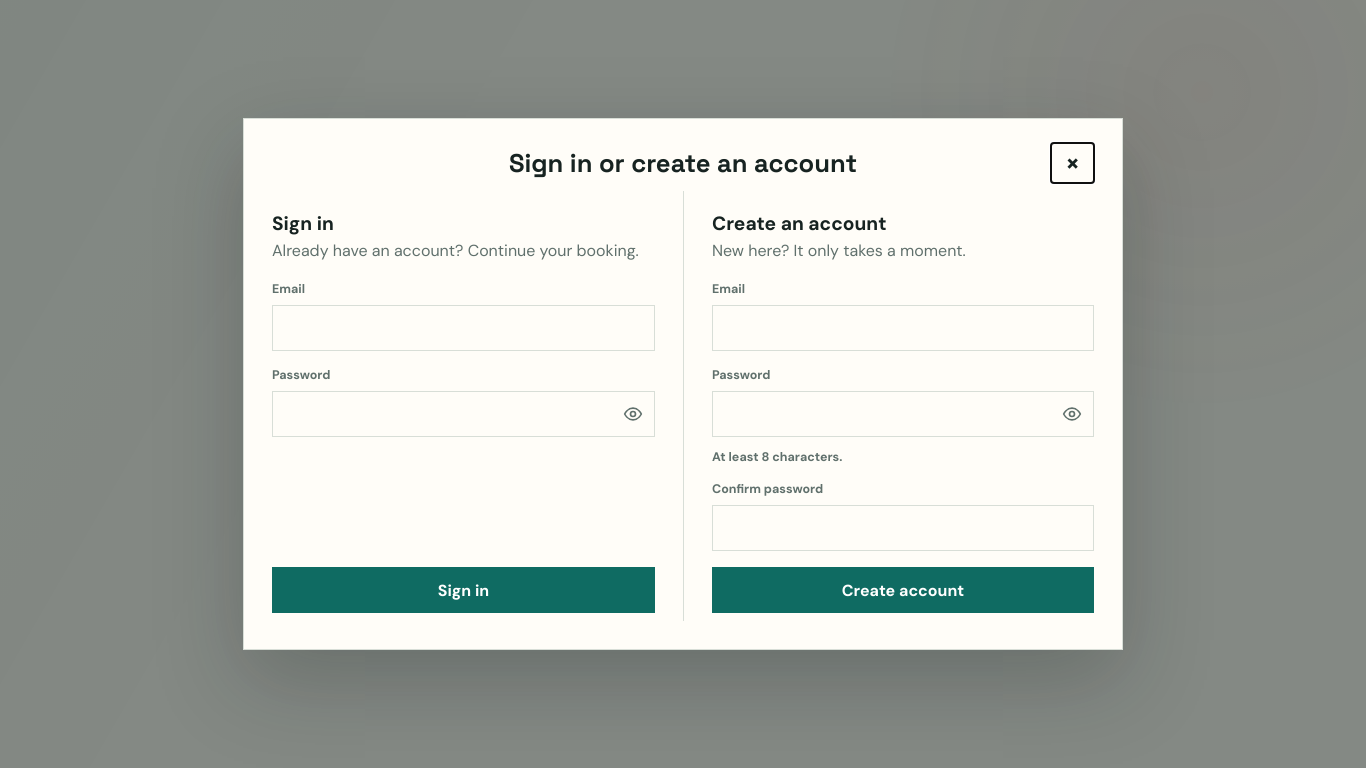
Scenario: AuthModal › closes with the × button and resets typed values
Type "typed@example.com" into the 1st field labelled "Email" at [464, 328], box x1=272 y1=305 x2=655 y2=351
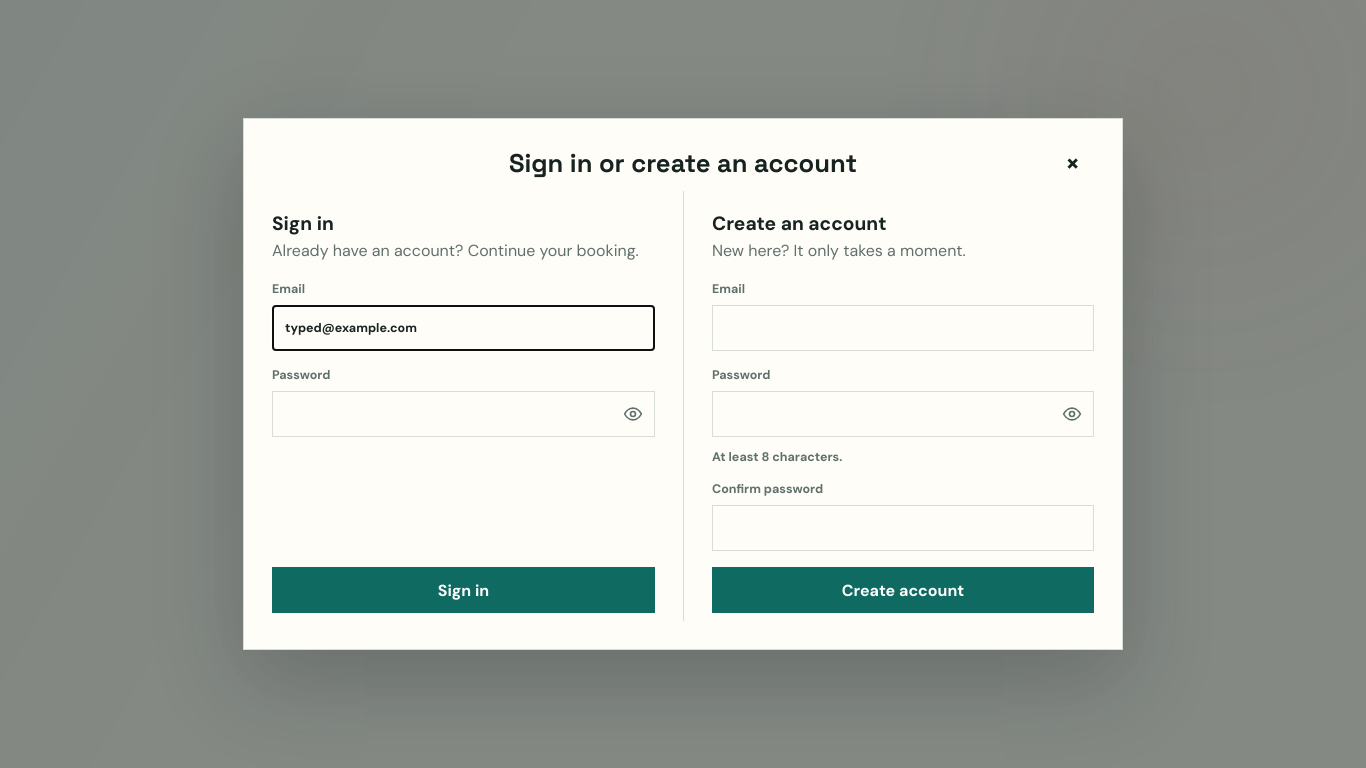
Click the button named "Close" at [1073, 163], box x1=1051 y1=143 x2=1094 y2=183
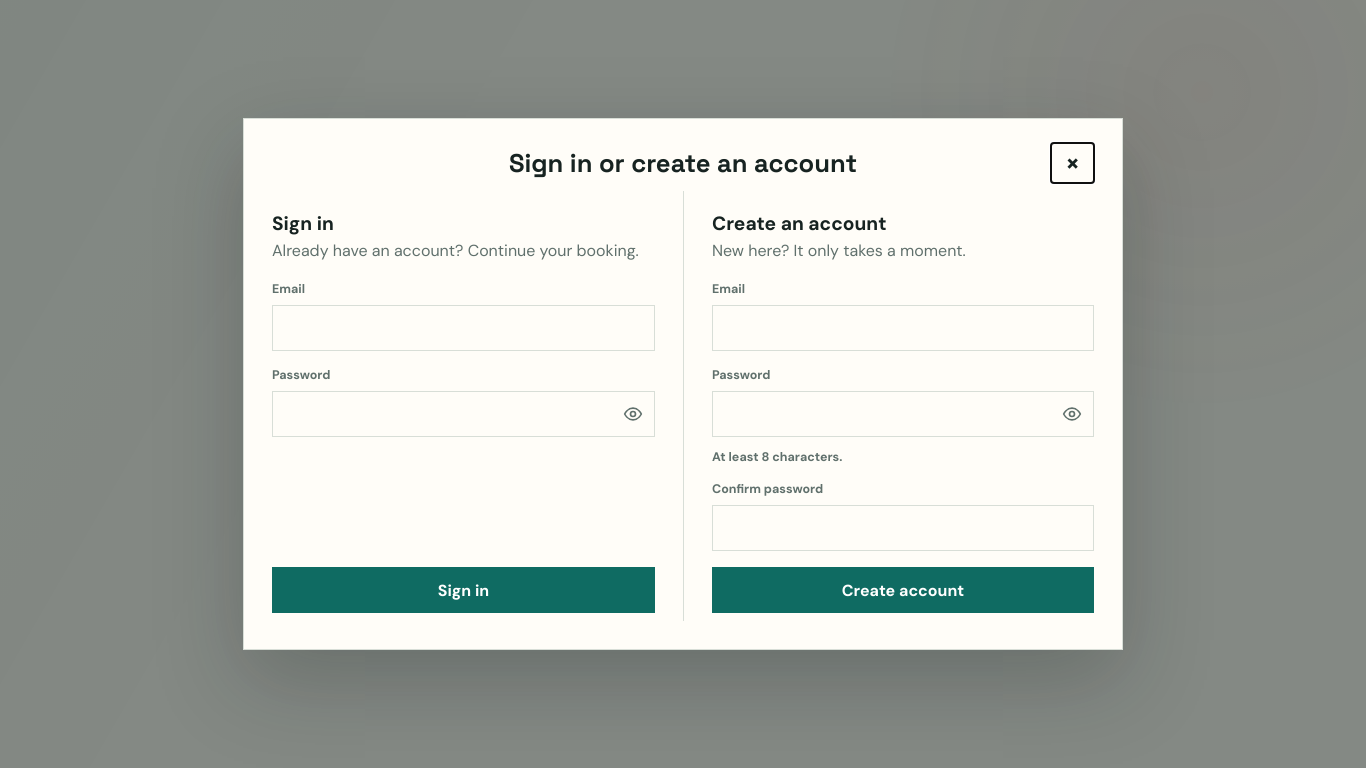
Expected: the 1st field labelled "Email" is empty, x1=272 y1=305 x2=655 y2=351
